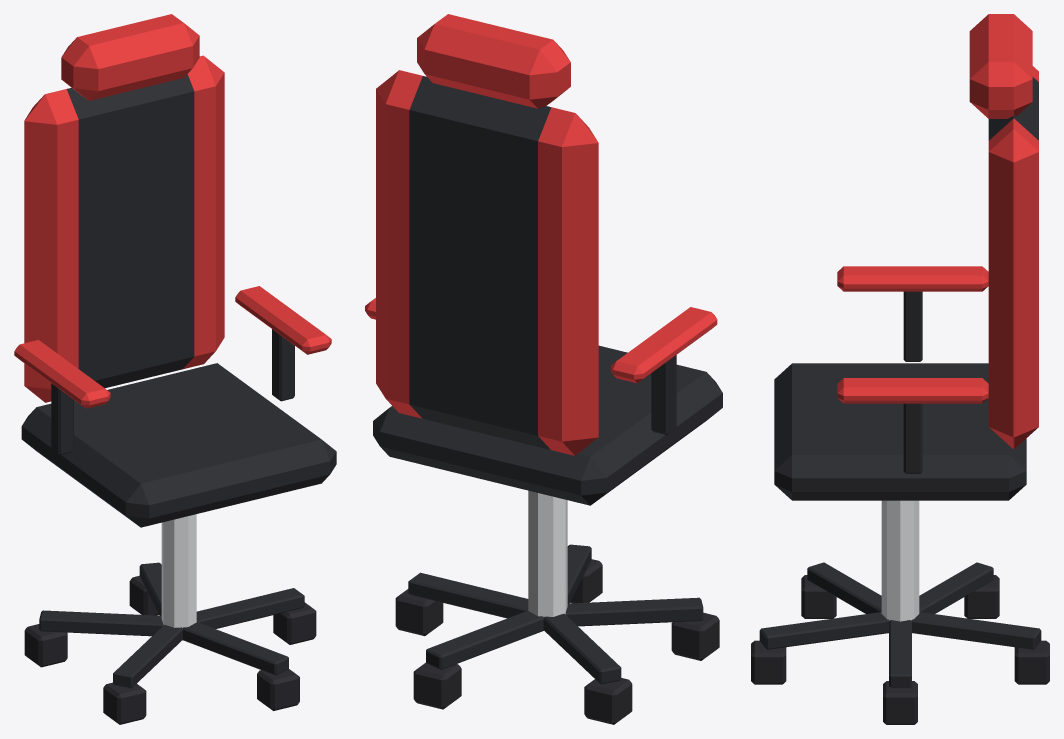
The model's file is GamingChair.fbx.
The picture shows the model from 3 angles, left to right: view 1: azimuth 30°, elevation 25°; view 2: azimuth 150°, elevation 25°; view 3: azimuth 270°, elevation 25°; orthographic projection. The views are drawn at different scales.
Visible parts, largest first — view 1: GamingChair; view 2: GamingChair; view 3: GamingChair.
Boxes of the visible parts, x1,y1,x2,y2 form: GamingChair: (14,14,336,724); GamingChair: (365,14,722,724); GamingChair: (751,14,1049,724).
Bounding box in the file's own units: 2.43 × 5.45 × 2.37.
Materials: 1 (1 with a texture image).
